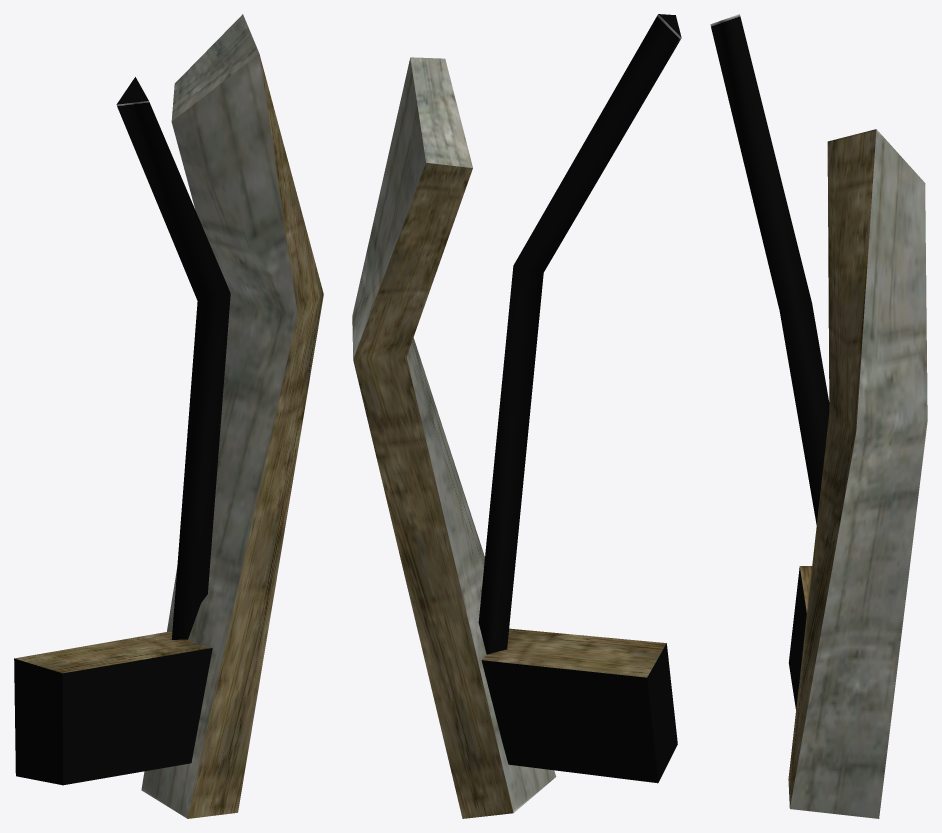
File: thm_prp_junk_s2_l2.fbx
3 renders of one model, left to right at view 1: azimuth 30°, elevation 25°; view 2: azimuth 150°, elevation 25°; view 3: azimuth 270°, elevation 25°, orthographic. The views are drawn at different scales.
Parts seen in each view (by area): view 1: mesh_node; view 2: mesh_node; view 3: mesh_node.
Part boxes in pixels (x1,y1,x2,y2): mesh_node: (14, 14, 323, 818); mesh_node: (352, 14, 681, 818); mesh_node: (710, 14, 927, 818).
Bounding box in the file's own units: 3.42 × 8.41 × 2.22.
Materials: 1 (1 with a texture image).
